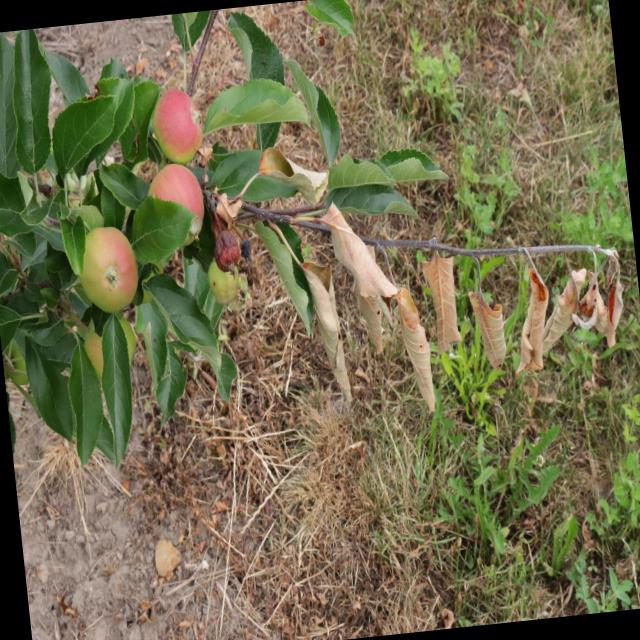-FireBlight-: (211, 147, 484, 413), (475, 258, 633, 378)
